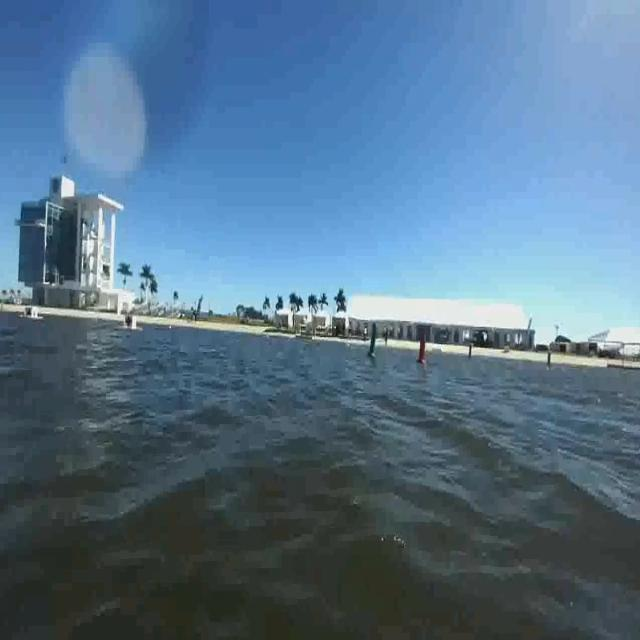green-column-buoy: (366, 324, 378, 359)
red-column-buoy: (417, 329, 428, 364)
